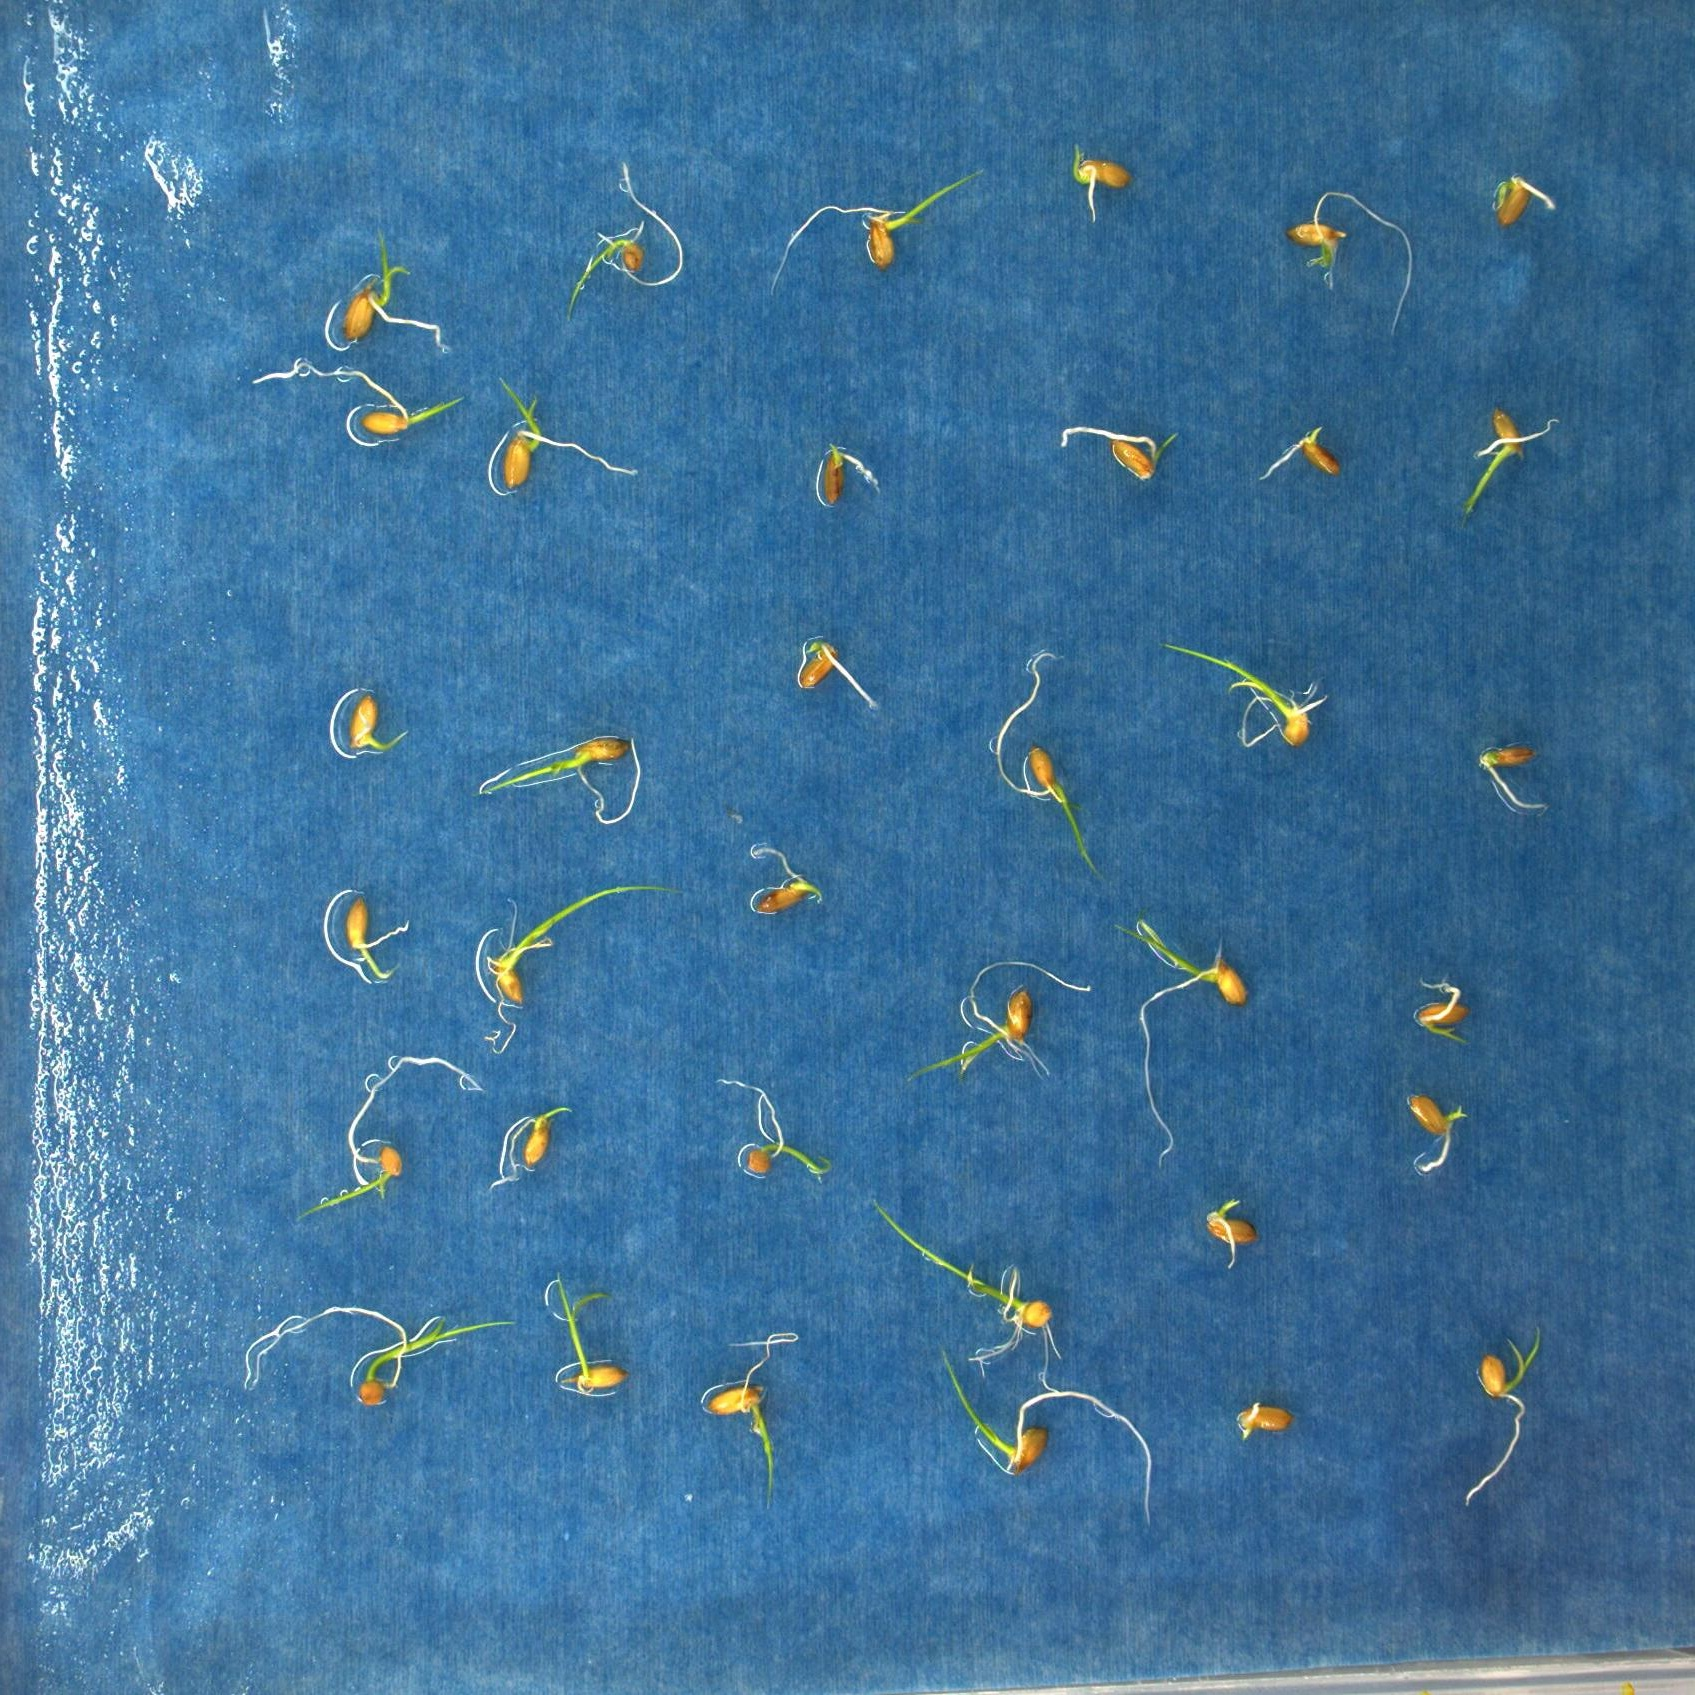not sprout: (796, 636, 882, 711), (1405, 1087, 1468, 1177), (1478, 740, 1552, 816), (1257, 421, 1340, 483), (813, 444, 883, 504), (1234, 1400, 1288, 1439)
sprout: (938, 1347, 1159, 1532), (872, 1195, 1066, 1402), (1113, 917, 1248, 1170), (486, 883, 664, 1055), (293, 1052, 483, 1212), (242, 1301, 512, 1406), (993, 647, 1111, 882), (765, 172, 983, 298), (900, 956, 1093, 1082), (1284, 186, 1417, 335), (568, 158, 686, 321), (1163, 643, 1330, 751), (245, 355, 464, 438), (338, 206, 453, 346), (497, 377, 640, 487), (473, 736, 643, 827), (700, 1332, 782, 1518), (1464, 1322, 1541, 1510), (1461, 407, 1563, 529), (717, 1076, 829, 1184), (551, 1273, 626, 1400), (1055, 425, 1180, 483), (494, 1107, 576, 1184), (345, 894, 413, 978), (748, 847, 823, 917), (1069, 141, 1128, 224), (348, 689, 411, 759), (1205, 1195, 1259, 1273), (1412, 976, 1471, 1048), (1492, 174, 1558, 227)
